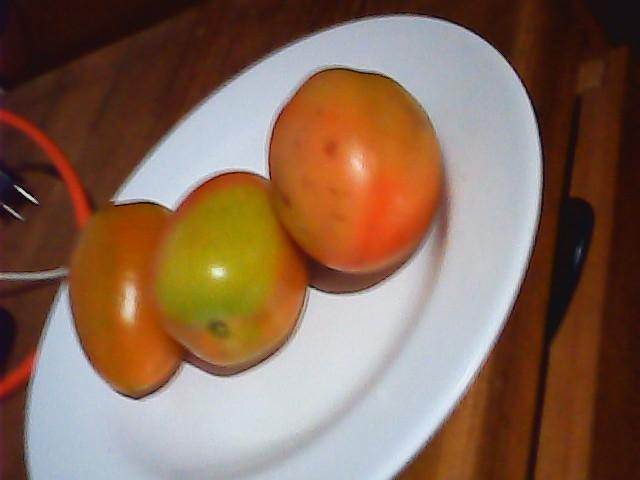verde: (266, 68, 452, 275), (155, 168, 308, 369), (67, 199, 185, 401)
